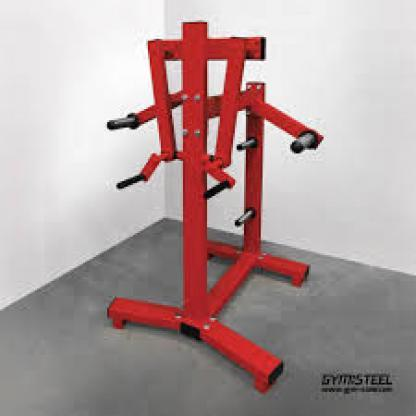lateral raises machine: (105, 20, 324, 395)
